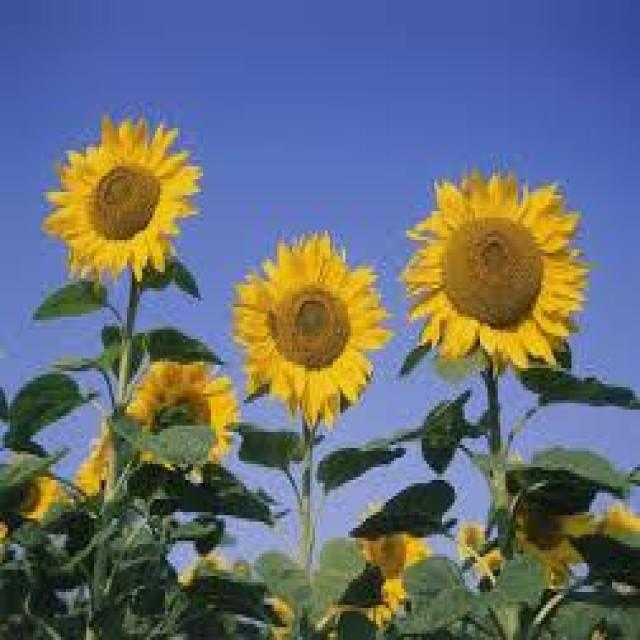organic waste: (398, 170, 596, 380), (43, 107, 208, 283), (235, 232, 387, 414)
